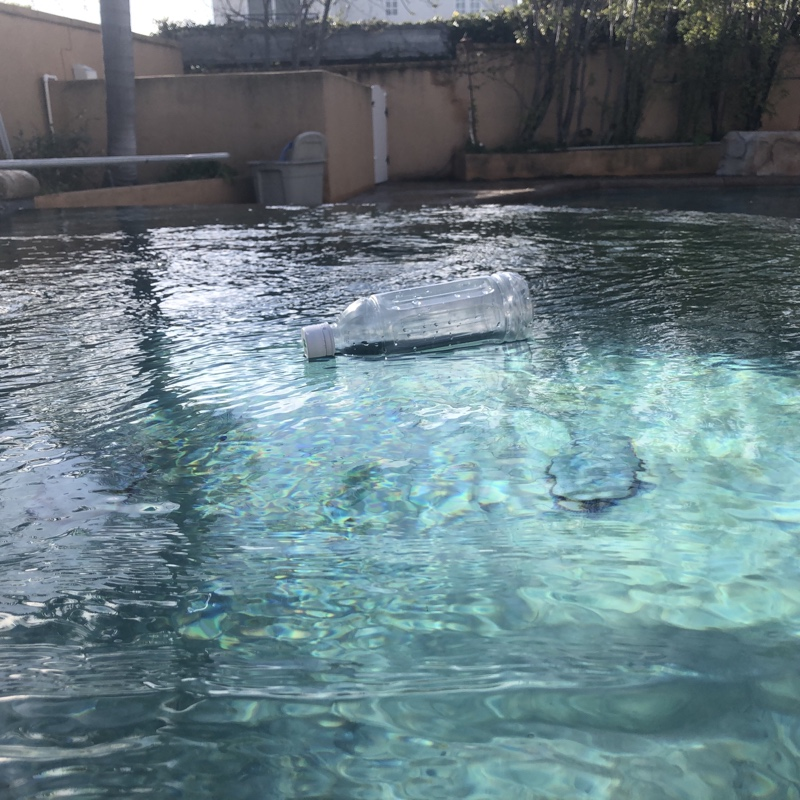Plastic Bottle: (298, 269, 538, 365)
